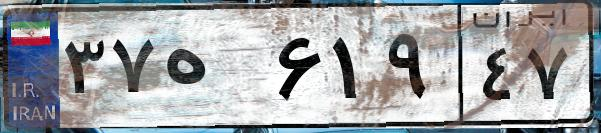1: (330, 28, 385, 110)
3: (57, 26, 110, 100)
4: (475, 38, 525, 113)
6: (270, 28, 330, 110)
7: (525, 38, 570, 115), (110, 28, 158, 98)
9: (385, 28, 445, 110)
ه: (158, 20, 270, 120)
